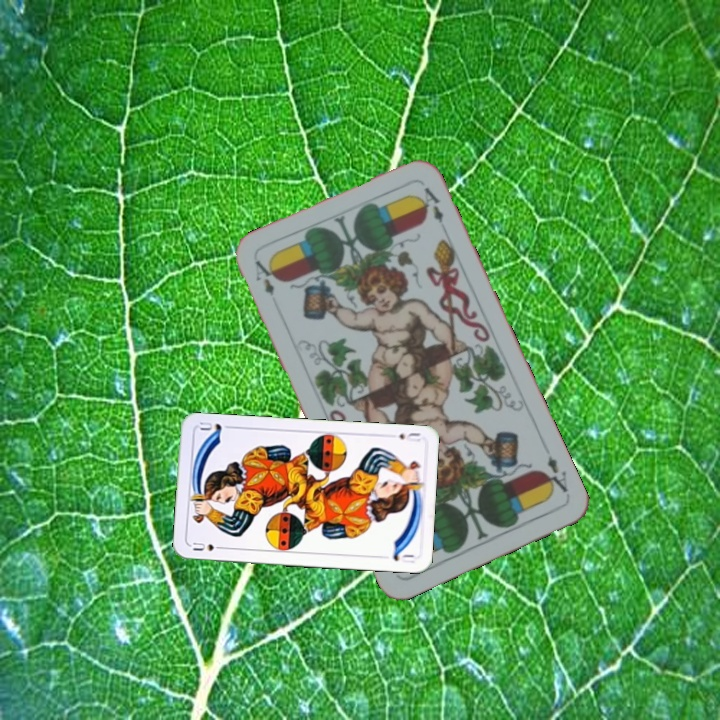EA: (538, 451, 571, 496), (251, 256, 277, 299)
SU: (189, 538, 228, 554), (395, 428, 423, 444)
